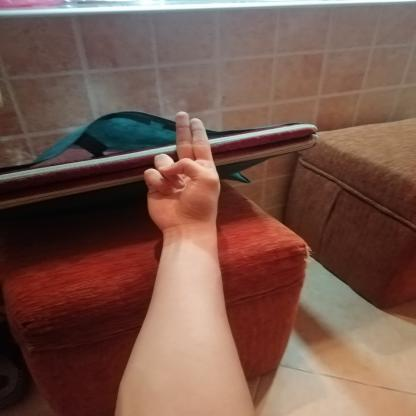TA: (129, 104, 235, 239)
